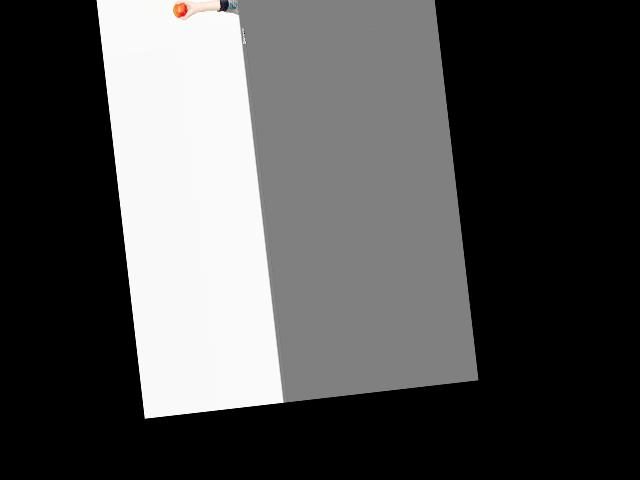tomato: (172, 2, 188, 18)
